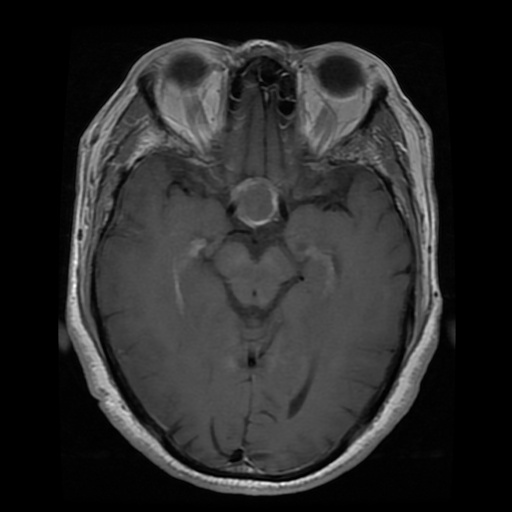pituitary: (225, 175, 280, 226)
